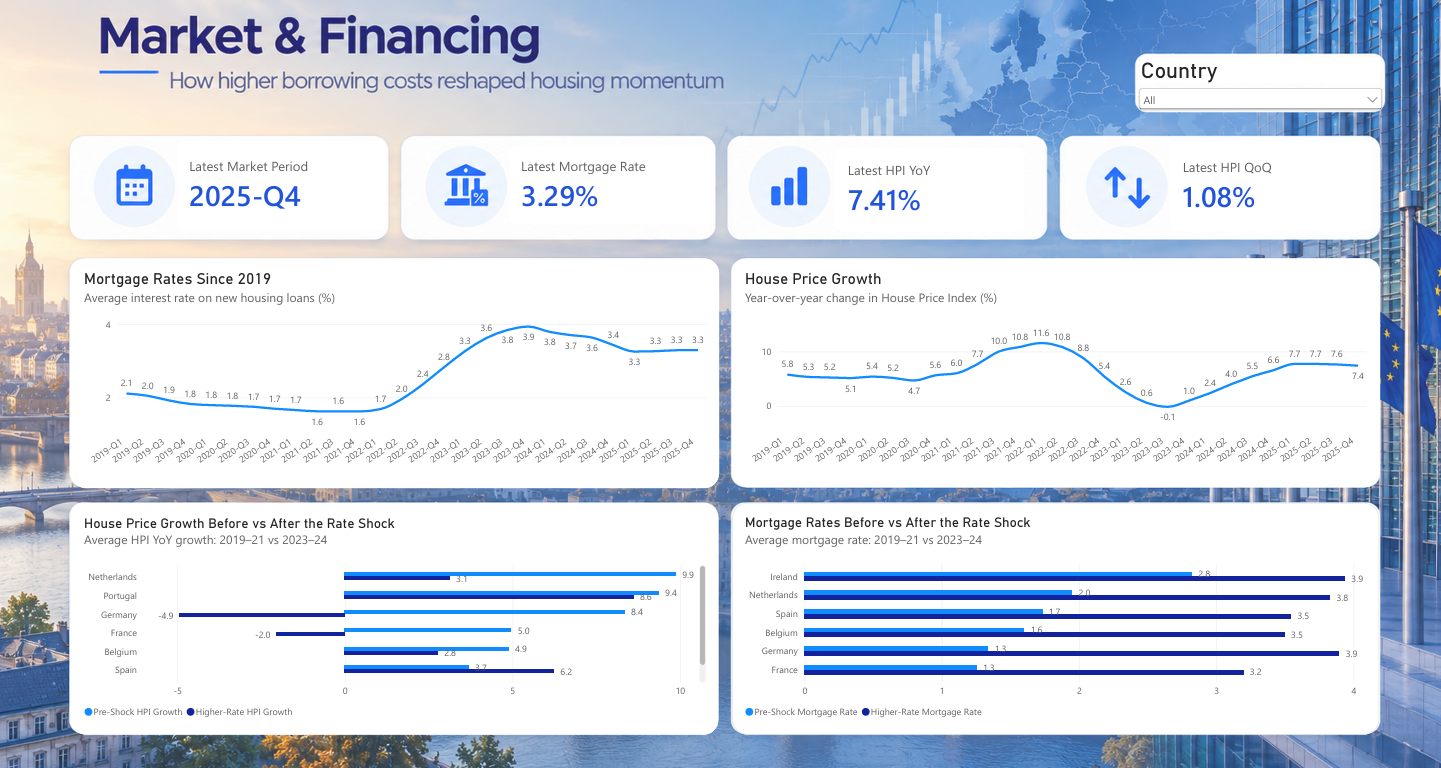

The page's visual inventory and layout, read from the dashboard file:
{"tool":"powerbi","page":{"name":"Market & Financing","canvas":[1920,1080],"ordinal":1},"visuals":[{"type":"slicer","fields":{"Values":["Dim Country.Country"]},"box":[1505.3,102.9,331.8,305.3],"z":0},{"type":"lineChart","title":"Mortgage Rates Since 2019","fields":{"Category":["Market Quarterly.period"],"Y":["Avg(Market Quarterly.mortgage_rate)"]},"box":[97.7,367.7,856.9,304.6],"z":1000},{"type":"lineChart","title":"House Price Growth","fields":{"Category":["Market Quarterly.period"],"Y":["Avg(Market Quarterly.hpi_yoy_pct)"]},"box":[971.8,368.2,856.4,302.7],"z":2000},{"type":"cardVisual","fields":{"Data":["Market Quarterly.Latest Mortgage Rate Display"]},"box":[676.7,220,267.5,103.3],"z":3000},{"type":"cardVisual","fields":{"Data":["Market Quarterly.Latest Market Period"]},"box":[237.5,212.5,276.7,117.5],"z":4000},{"type":"cardVisual","fields":{"Data":["Market Quarterly.Latest HPI YoY Display"]},"box":[1109.2,221.7,249.2,110],"z":5000},{"type":"cardVisual","fields":{"Data":["Market Quarterly.Latest HPI QoQ Display"]},"box":[1551.7,212.5,265.8,119.2],"z":6000},{"type":"clusteredBarChart","title":"House Price Growth Before vs After the Rate Shock","fields":{"Category":["Dim Country.Country"],"Y":["Market Quarterly.Pre-Shock HPI Growth","Market Quarterly.Higher-Rate HPI Growth"]},"box":[98.3,691.7,855.8,305.8],"z":7000},{"type":"clusteredBarChart","title":"Mortgage Rates Before vs After the Rate Shock","fields":{"Category":["Dim Country.Country"],"Y":["Market Quarterly.Pre-Shock Mortgage Rate","Market Quarterly.Higher-Rate Mortgage Rate"]},"box":[971.9,691.2,856.2,306.2],"z":8000}]}

Visuals, with their boxes on the page's 1920x1080 design canvas (x1, y1, x2, y2). These are canvas units, not pixel positions in the 1441x768 screenshot, which may show the page scaled, cropped or inside an application window:
slicer - Dim Country.Country: region(1505, 103, 1837, 408)
"Mortgage Rates Since 2019" lineChart: region(98, 368, 955, 672)
"House Price Growth" lineChart: region(972, 368, 1828, 671)
cardVisual - Market Quarterly.Latest Mortgage Rate Display: region(677, 220, 944, 323)
cardVisual - Market Quarterly.Latest Market Period: region(238, 212, 514, 330)
cardVisual - Market Quarterly.Latest HPI YoY Display: region(1109, 222, 1358, 332)
cardVisual - Market Quarterly.Latest HPI QoQ Display: region(1552, 212, 1818, 332)
"House Price Growth Before vs After the Rate Shock" clusteredBarChart: region(98, 692, 954, 998)
"Mortgage Rates Before vs After the Rate Shock" clusteredBarChart: region(972, 691, 1828, 997)
